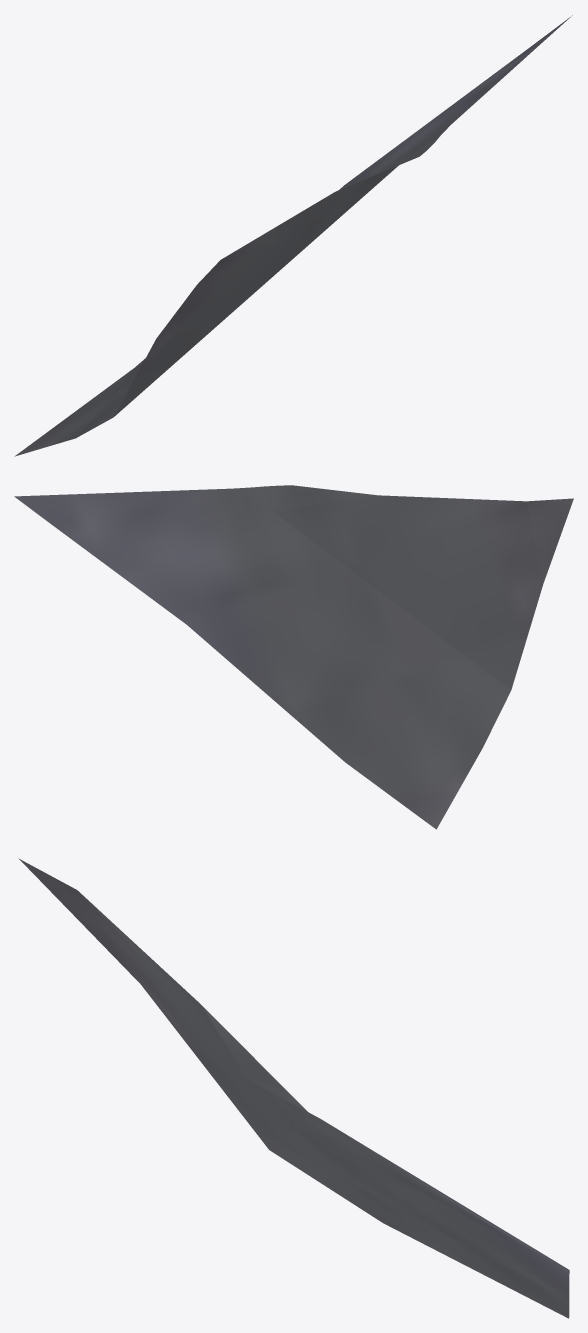
File: Tile_+008_+006_L19_00120.glb
The picture shows the model from 3 angles, top to bottom: view 1: azimuth 30°, elevation 25°; view 2: azimuth 150°, elevation 25°; view 3: azimuth 270°, elevation 25°; orthographic projection. The views are drawn at different scales.
Parts seen in each view (by area): view 1: rtc; view 2: rtc; view 3: rtc.
Part boxes in pixels (bbox=[...]): rtc: bbox=[14, 15, 572, 456]; rtc: bbox=[14, 485, 573, 829]; rtc: bbox=[18, 858, 569, 1318].
Size of the model in its own units: 2.07 by 1.08 by 1.17.
1 material, 1 textured.
